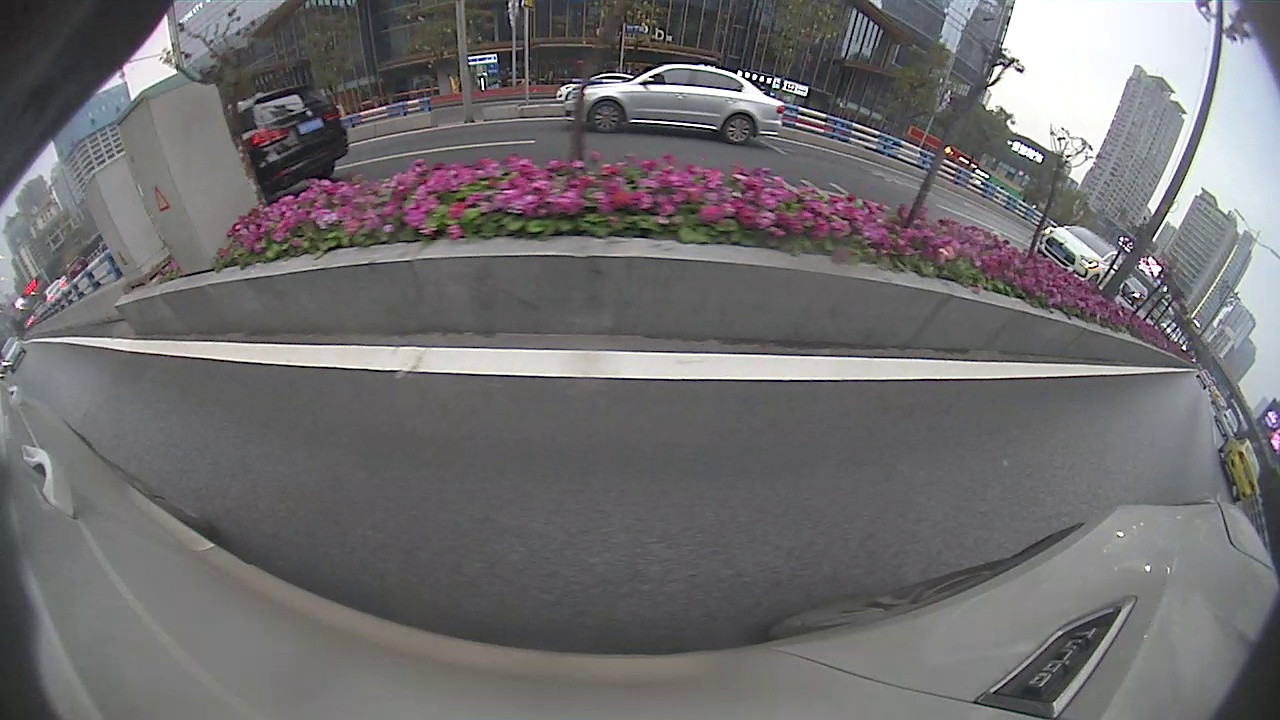car: (562, 58, 787, 152), (1218, 436, 1261, 503)
front: (589, 98, 624, 137)
rear: (723, 112, 756, 146)
